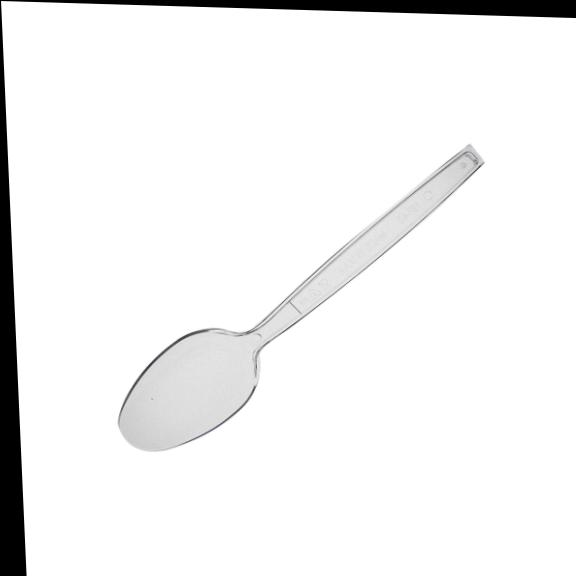Plastik: (118, 145, 482, 450)
